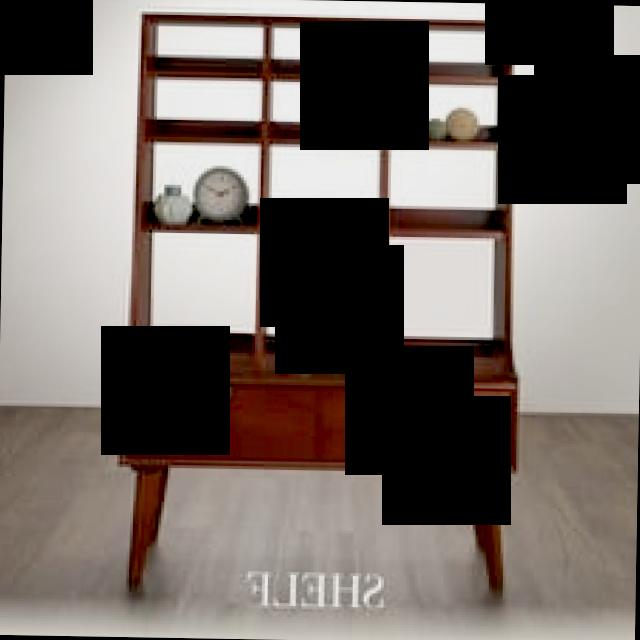vintage shelf: (119, 4, 522, 603)
